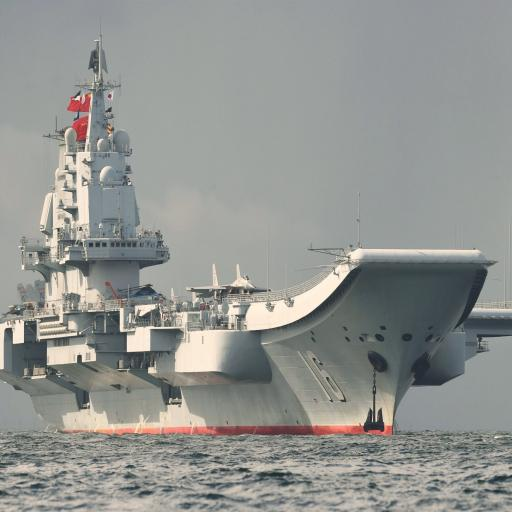Portanaves: (1, 18, 508, 444)
